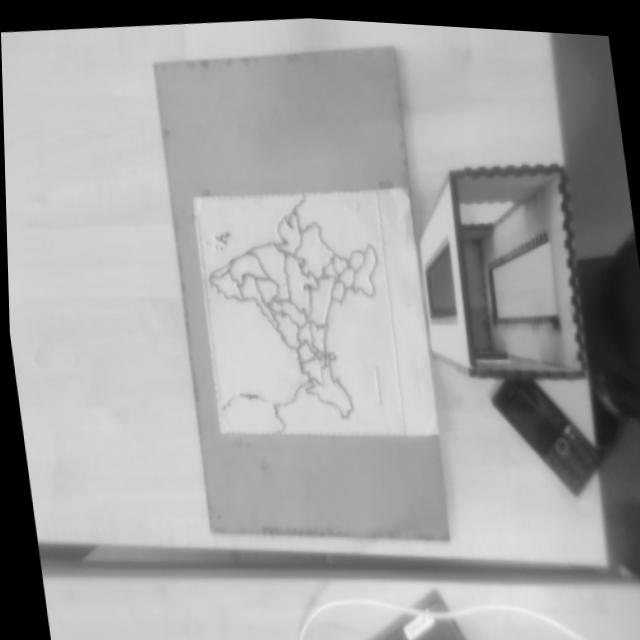map: (193, 176, 406, 457)
